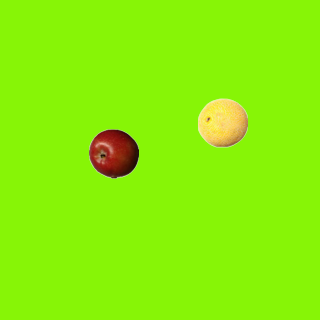Apple Braeburn: (88, 128, 138, 178)
Cantaloupe 1: (197, 97, 247, 147)
